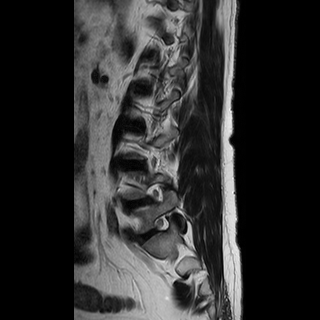LFS0: (150, 208, 175, 240)
